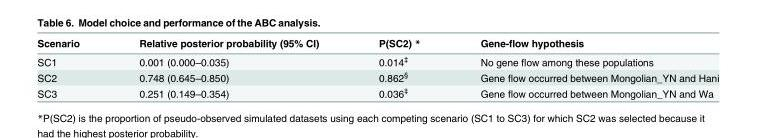table: (36, 36, 718, 98)
table column: (449, 36, 718, 98), (108, 36, 348, 98), (348, 36, 449, 98), (36, 36, 108, 98)
table column header: (36, 36, 718, 52)
table row: (36, 68, 718, 85), (36, 36, 718, 52), (36, 52, 718, 68), (36, 85, 718, 98)
